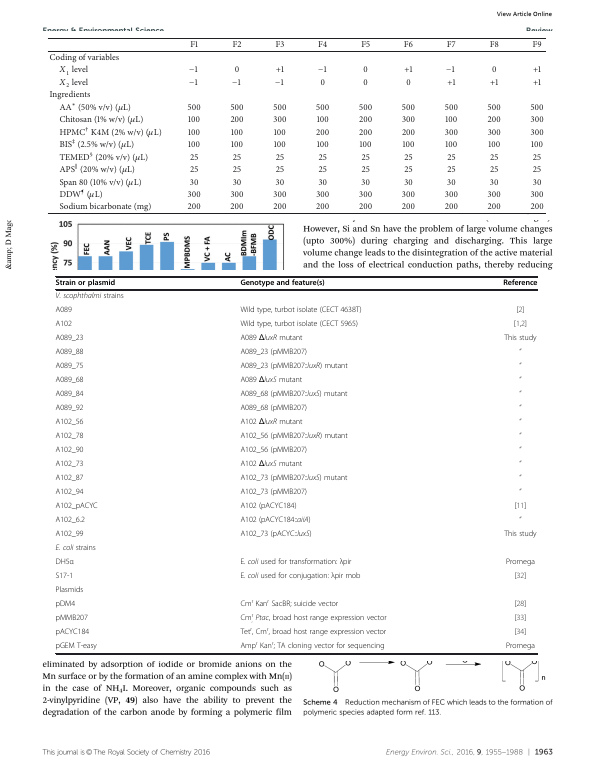borderless: (54, 275, 537, 653), (46, 36, 546, 213)
cell: (58, 123, 163, 140), (239, 612, 387, 624), (239, 626, 387, 638), (239, 640, 385, 652), (58, 149, 149, 165), (58, 112, 144, 127), (58, 174, 143, 189), (58, 161, 136, 177), (58, 136, 135, 152), (239, 306, 362, 316), (239, 572, 361, 582), (239, 320, 359, 330), (239, 598, 339, 610), (58, 99, 132, 115), (239, 558, 352, 568), (239, 362, 349, 372), (239, 432, 349, 442), (239, 390, 348, 400), (239, 474, 348, 484), (58, 202, 152, 213), (239, 279, 326, 288), (58, 186, 104, 202), (239, 530, 312, 540), (48, 53, 120, 63), (239, 516, 311, 526), (55, 292, 125, 302), (239, 348, 308, 358), (239, 404, 308, 414), (239, 446, 308, 456), (239, 488, 308, 498), (239, 334, 303, 344), (239, 376, 303, 386), (239, 418, 303, 428), (239, 460, 303, 470), (239, 502, 297, 512), (55, 279, 116, 288), (58, 74, 89, 91), (58, 62, 89, 78), (48, 90, 91, 101), (55, 502, 99, 512), (55, 642, 98, 652), (55, 544, 97, 554), (55, 628, 90, 638), (503, 334, 537, 344), (503, 530, 537, 540), (55, 614, 89, 624), (502, 279, 538, 288), (55, 516, 86, 526), (505, 558, 536, 568), (505, 642, 536, 652), (55, 334, 84, 344), (55, 348, 84, 358), (55, 362, 84, 372), (55, 376, 84, 386), (55, 390, 84, 400), (55, 404, 84, 414), (55, 418, 84, 428), (55, 432, 84, 442), (55, 446, 84, 456), (55, 460, 84, 470), (55, 474, 84, 484), (55, 488, 84, 498), (55, 530, 84, 540), (55, 586, 84, 596), (55, 600, 76, 610), (55, 558, 75, 568), (188, 74, 200, 90), (231, 74, 243, 90), (274, 74, 286, 90), (55, 572, 74, 582), (188, 62, 200, 77), (317, 62, 329, 77), (55, 306, 73, 316), (55, 320, 73, 330), (229, 115, 245, 126), (229, 202, 245, 213), (446, 62, 457, 77), (272, 115, 287, 126), (358, 115, 373, 126), (401, 115, 416, 126), (487, 115, 502, 126), (530, 115, 545, 126), (315, 127, 330, 138), (358, 127, 373, 138), (401, 127, 416, 138), (444, 127, 459, 138), (487, 127, 502, 138), (530, 127, 545, 138), (187, 202, 202, 213), (272, 202, 287, 213), (315, 202, 330, 213), (358, 202, 373, 213), (401, 202, 416, 213), (444, 202, 459, 213), (487, 202, 502, 213), (530, 202, 545, 213), (229, 103, 245, 113), (229, 190, 245, 200), (187, 115, 201, 126), (316, 115, 330, 126), (444, 115, 458, 126), (187, 127, 201, 138), (230, 127, 244, 138), (273, 127, 287, 138), (187, 140, 201, 151), (230, 140, 244, 151), (273, 140, 287, 151), (316, 140, 330, 151), (359, 140, 373, 151), (401, 140, 415, 151), (444, 140, 458, 151), (487, 140, 501, 151), (530, 140, 544, 151), (187, 103, 202, 113), (272, 103, 287, 113), (315, 103, 330, 113), (358, 103, 373, 113), (401, 103, 416, 113), (444, 103, 459, 113), (487, 103, 502, 113), (530, 103, 545, 113), (187, 190, 202, 200), (272, 190, 287, 200), (315, 190, 330, 200), (358, 190, 373, 200), (401, 190, 416, 200), (444, 190, 459, 200), (487, 190, 502, 200), (530, 190, 545, 200), (513, 320, 528, 330), (513, 502, 527, 512), (513, 572, 527, 582), (513, 600, 527, 610), (513, 614, 527, 624), (513, 628, 527, 638), (274, 40, 285, 51), (317, 40, 328, 51), (360, 40, 371, 51), (403, 40, 414, 51), (446, 40, 457, 51), (489, 40, 500, 51), (532, 40, 543, 51), (403, 65, 414, 76), (360, 152, 371, 163), (403, 152, 414, 163), (446, 152, 457, 163), (317, 177, 328, 188), (360, 177, 371, 188), (403, 177, 414, 188), (446, 177, 457, 188), (189, 40, 199, 51), (232, 40, 242, 51), (275, 65, 285, 76), (532, 65, 542, 76), (189, 152, 199, 163), (232, 152, 242, 163), (275, 152, 285, 163), (318, 152, 328, 163), (489, 152, 499, 163), (532, 152, 542, 163), (360, 165, 371, 175), (403, 165, 414, 175), (446, 165, 457, 175), (189, 177, 199, 188), (232, 177, 242, 188), (275, 177, 285, 188), (489, 177, 499, 188), (532, 177, 542, 188), (446, 78, 456, 88), (489, 78, 499, 88), (532, 78, 542, 88), (189, 165, 199, 175), (232, 165, 242, 175), (275, 165, 285, 175), (318, 165, 328, 175), (489, 165, 499, 175), (532, 165, 542, 175), (515, 306, 525, 316), (362, 65, 369, 76), (362, 78, 369, 88), (405, 78, 412, 88), (234, 65, 240, 76), (491, 65, 497, 76), (320, 78, 326, 88), (518, 348, 522, 356), (518, 362, 522, 370), (518, 376, 522, 384), (518, 390, 522, 398), (518, 404, 522, 412), (518, 418, 522, 426), (518, 432, 522, 440), (518, 446, 522, 454), (518, 460, 522, 468), (518, 474, 522, 482), (518, 488, 522, 496), (518, 516, 522, 524)
